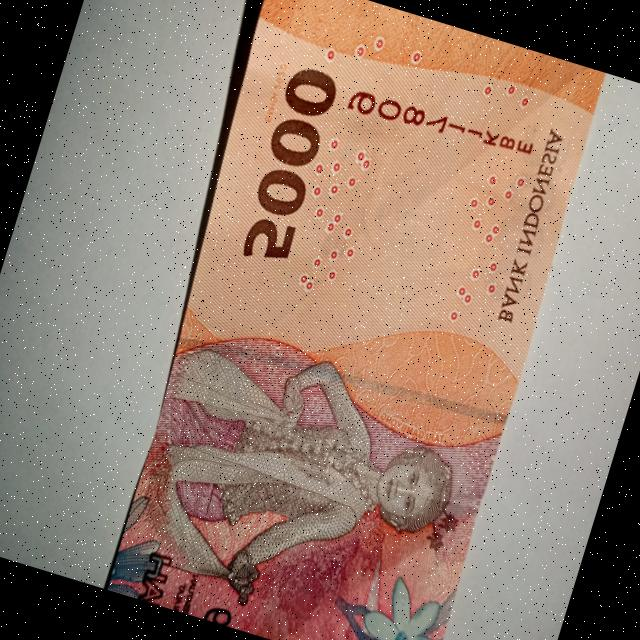5K: (84, 0, 618, 640)
